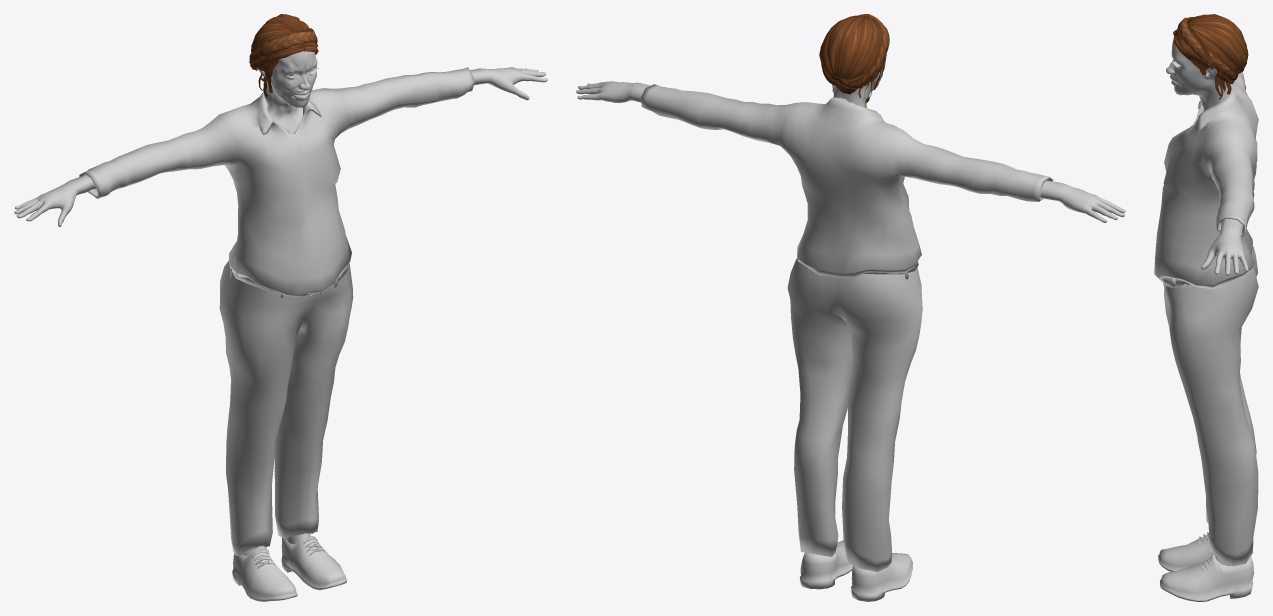
The model's file is zombie_femme.obj.
The picture shows the model from 3 angles, left to right: view 1: azimuth 30°, elevation 25°; view 2: azimuth 150°, elevation 25°; view 3: azimuth 270°, elevation 25°; orthographic projection.
Visible parts, largest first — view 1: Tops, Bottoms, Body, Shoes, Hair; view 2: Bottoms, Tops, Hair, Shoes, Body; view 3: Bottoms, Tops, Shoes, Hair, Body.
Boxes of the visible parts, x1,y1,x2,y2 form: Tops: (79,67,474,296); Bottoms: (219,261,353,556); Body: (14,51,547,555); Shoes: (232,536,347,601); Hair: (249,14,318,96); Bottoms: (787,258,922,571); Tops: (641,84,1053,277); Hair: (819,14,889,103); Shoes: (799,540,912,601); Body: (576,65,1125,222); Bottoms: (1160,246,1258,566); Tops: (1154,71,1258,289); Shoes: (1158,532,1253,601); Hair: (1173,14,1248,99); Body: (1166,38,1248,566).
Bounding box in the file's own units: 180 × 180 × 30.27.
